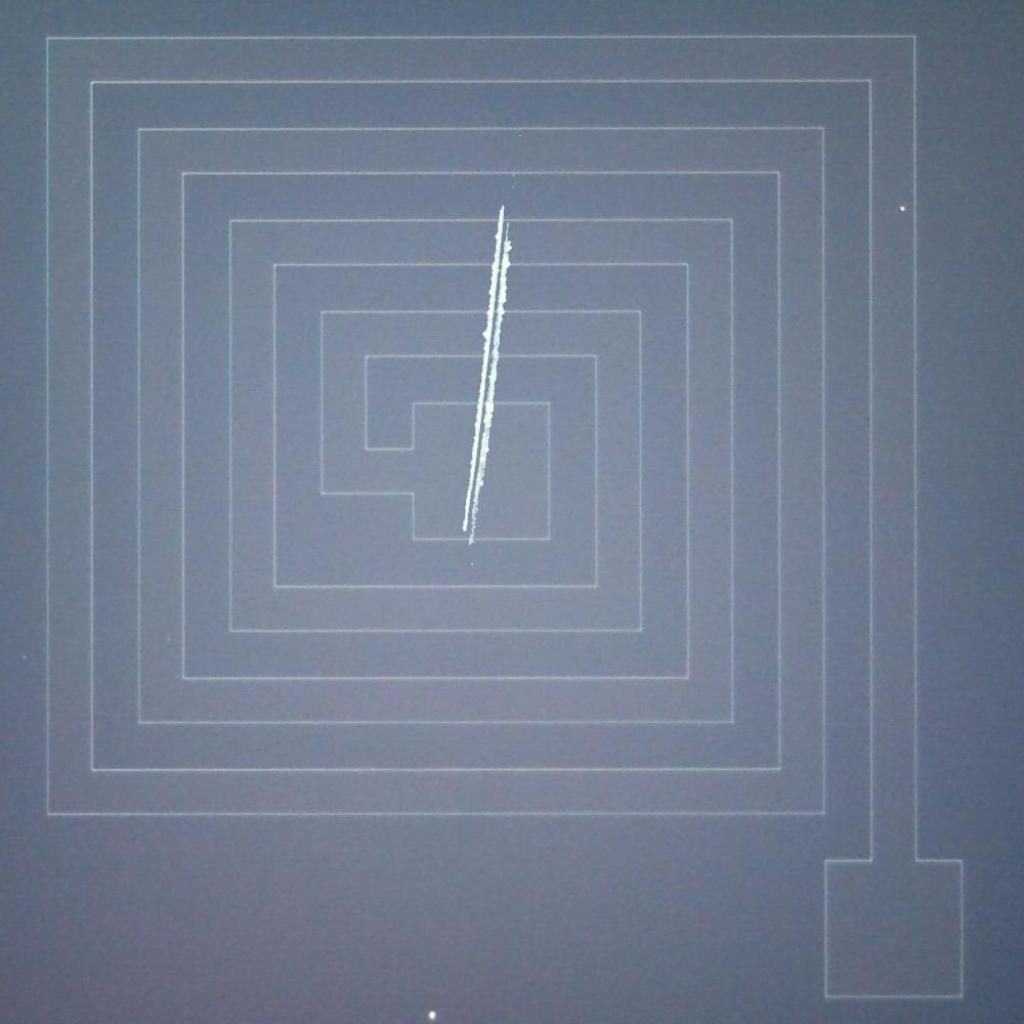dot: (887, 196, 914, 224), (422, 1001, 444, 1023)
scratch: (454, 198, 525, 556)
